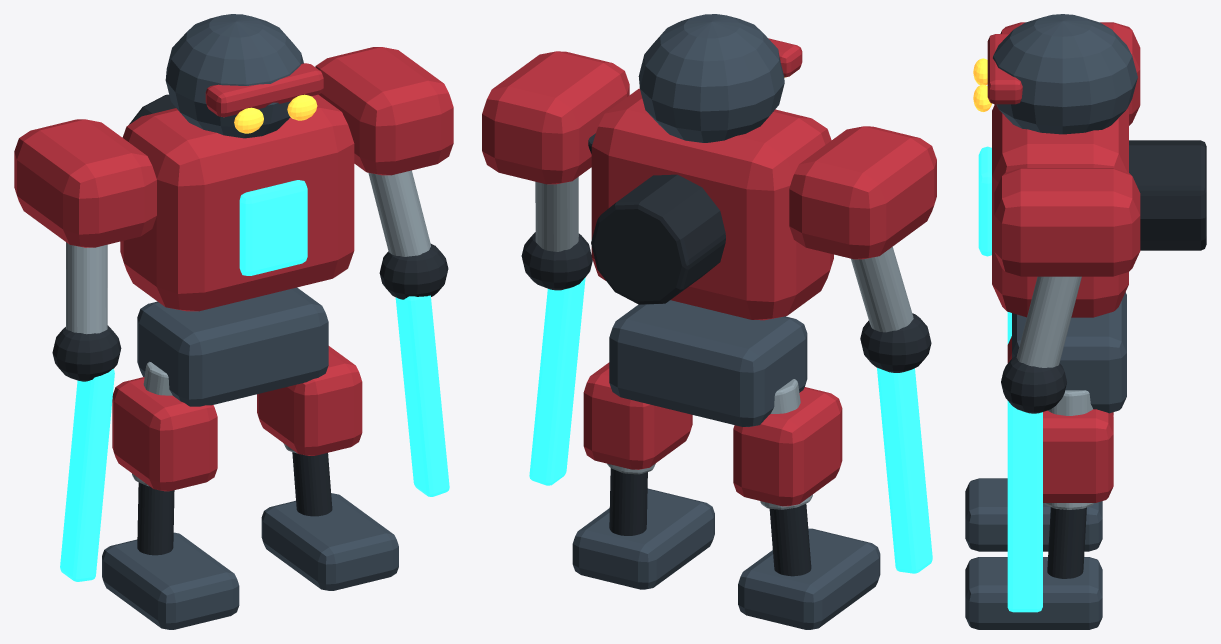
The model's file is mech_ravager.glb.
The picture shows the model from 3 angles, left to right: view 1: azimuth 30°, elevation 25°; view 2: azimuth 150°, elevation 25°; view 3: azimuth 270°, elevation 25°; orthographic projection. The views are drawn at different scales.
Visible parts, largest first — view 1: Crimson chest cuirass, Ravager pelvis, Shoulder plate, Shoulder plate.001, Head, Armored thigh.001, Duelist foot.001, Duelist foot, Energy blade, Armored thigh, Energy blade.001, Chest reactor (+10 smaller); view 2: Crimson chest cuirass, Ravager pelvis, Shoulder plate, Head, Shoulder plate.001, Back power cell, Armored thigh.001, Duelist foot, Duelist foot.001, Energy blade, Energy blade.001, Armored thigh (+8 smaller); view 3: Shoulder plate.001, Head, Crimson chest cuirass, Back power cell, Energy blade.001, Duelist foot.001, Armored thigh, Ravager pelvis, Duelist foot, Arm, Wrist emitter.001, Lower leg piston.001 (+5 smaller).
Boxes of the visible parts, left/top/right/bottom form: Crimson chest cuirass: left=120, top=94, right=354, bottom=311; Ravager pelvis: left=137, top=287, right=328, bottom=406; Shoulder plate: left=14, top=119, right=156, bottom=247; Shoulder plate.001: left=315, top=47, right=453, bottom=175; Head: left=165, top=14, right=303, bottom=138; Armored thigh.001: left=112, top=377, right=217, bottom=491; Duelist foot.001: left=261, top=493, right=398, bottom=590; Duelist foot: left=102, top=532, right=239, bottom=629; Energy blade: left=60, top=368, right=114, bottom=581; Armored thigh: left=257, top=346, right=362, bottom=455; Energy blade.001: left=395, top=295, right=449, bottom=496; Chest reactor: left=239, top=180, right=307, bottom=275; Crimson chest cuirass: left=591, top=88, right=833, bottom=320; Ravager pelvis: left=609, top=300, right=807, bottom=426; Shoulder plate: left=789, top=126, right=936, bottom=259; Head: left=638, top=14, right=784, bottom=142; Shoulder plate.001: left=482, top=51, right=629, bottom=184; Back power cell: left=591, top=174, right=725, bottom=304; Armored thigh.001: left=733, top=387, right=842, bottom=506; Duelist foot: left=738, top=528, right=880, bottom=629; Duelist foot.001: left=572, top=488, right=714, bottom=589; Energy blade: left=877, top=367, right=932, bottom=573; Energy blade.001: left=529, top=277, right=585, bottom=485; Armored thigh: left=583, top=362, right=692, bottom=469; Shoulder plate.001: left=994, top=168, right=1140, bottom=276; Head: left=993, top=14, right=1137, bottom=134; Crimson chest cuirass: left=992, top=104, right=1128, bottom=317; Back power cell: left=1129, top=140, right=1206, bottom=250; Energy blade.001: left=1007, top=401, right=1042, bottom=612; Duelist foot.001: left=965, top=557, right=1102, bottom=629; Armored thigh: left=1043, top=409, right=1113, bottom=502; Ravager pelvis: left=1012, top=292, right=1126, bottom=413; Duelist foot: left=965, top=478, right=1102, bottom=551; Arm: left=1016, top=276, right=1081, bottom=367; Wrist emitter.001: left=1001, top=355, right=1066, bottom=413; Lower leg piston.001: left=1047, top=507, right=1086, bottom=578.
Size of the model in its own units: 2.04 by 2.77 by 1.09.
